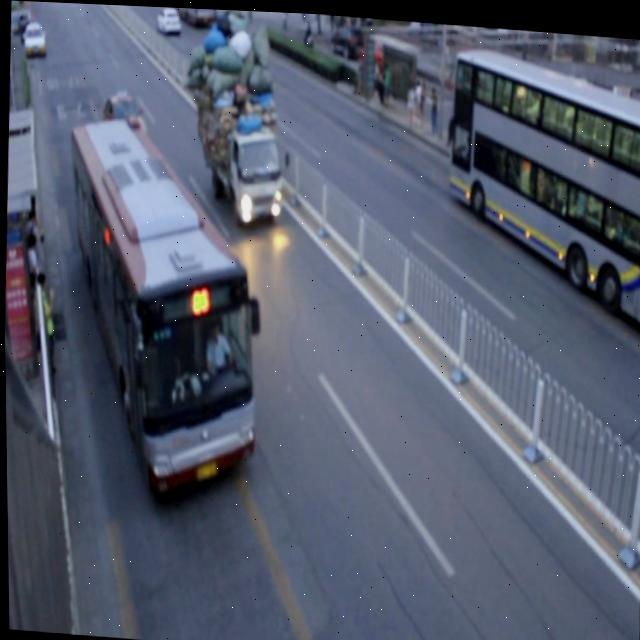bus: (193, 24, 284, 224)
car: (99, 84, 150, 148)
van: (58, 117, 260, 497), (443, 44, 640, 327)
